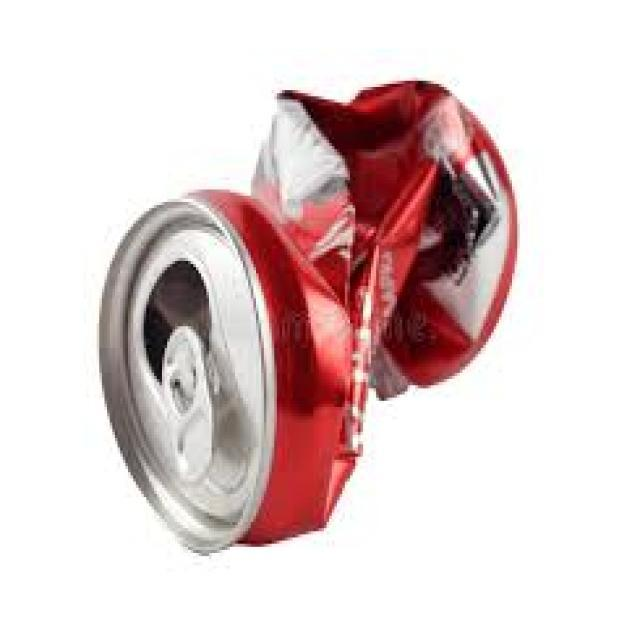recyclable: (97, 76, 520, 557)
